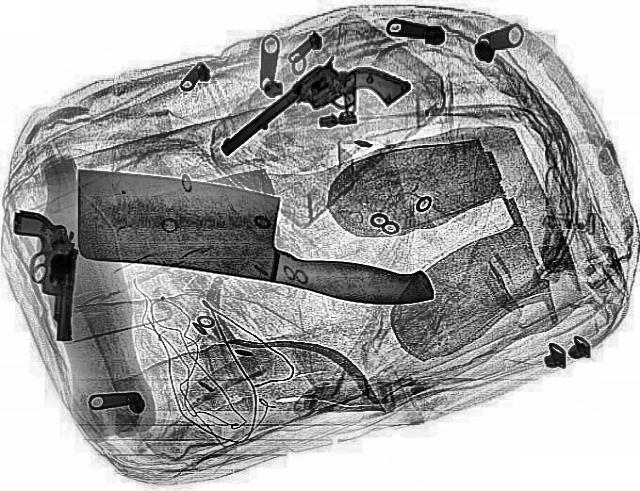Gun: (212, 40, 416, 189), (11, 207, 80, 345)
Knife: (56, 163, 454, 309)
